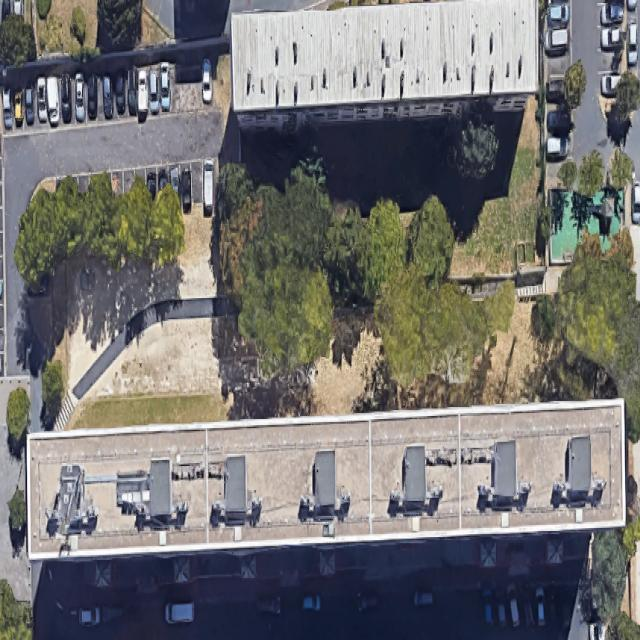immeuble: (19, 393, 633, 570), (223, 0, 547, 137)
